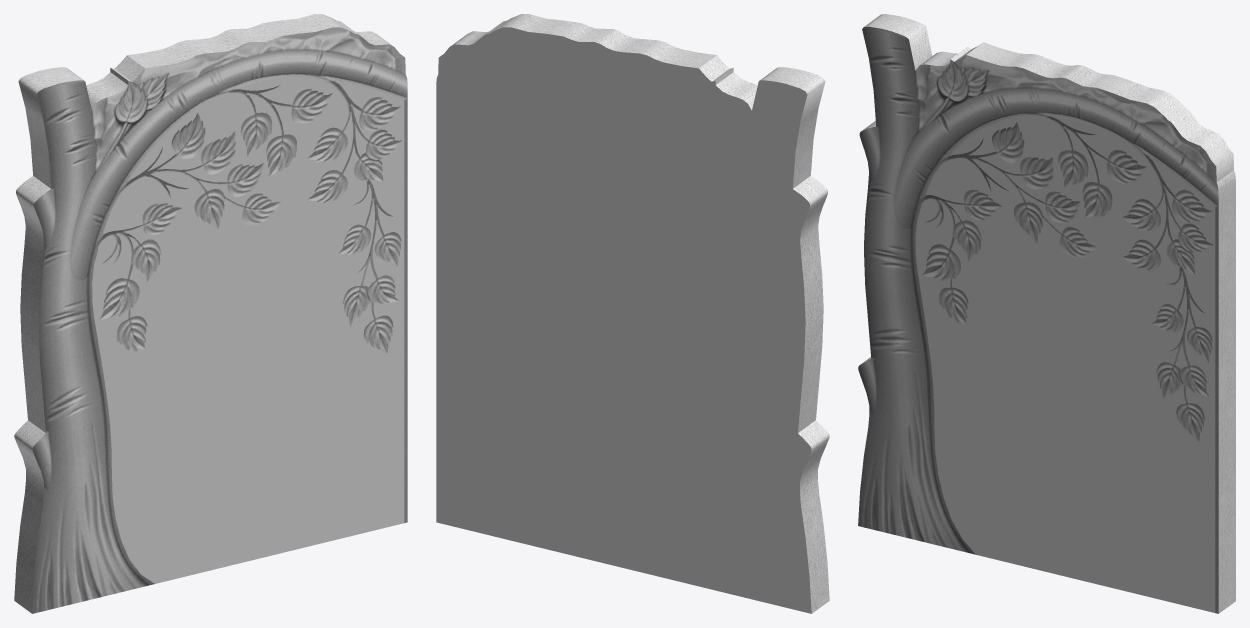
File: cnfad3a2b53a_tkf.glb
The picture shows the model from 3 angles, left to right: view 1: azimuth 30°, elevation 25°; view 2: azimuth 150°, elevation 25°; view 3: azimuth 330°, elevation 25°; orthographic projection. The views are drawn at different scales.
Parts seen in each view (by area): view 1: Pam-d03-330, Pam-d03-330_2_notexture; view 2: Pam-d03-330, Pam-d03-330_2_notexture; view 3: Pam-d03-330, Pam-d03-330_2_notexture.
Boxes of the visible parts, x1,y1,x2,y2 form: Pam-d03-330: (92,77,404,583); Pam-d03-330_2_notexture: (14,14,407,613); Pam-d03-330: (436,27,811,613); Pam-d03-330_2_notexture: (450,14,829,613); Pam-d03-330: (915,117,1215,612); Pam-d03-330_2_notexture: (858,14,1235,613).
Size of the model in its own units: 0.6 by 0.8 by 0.05.
1 material, 1 textured.
